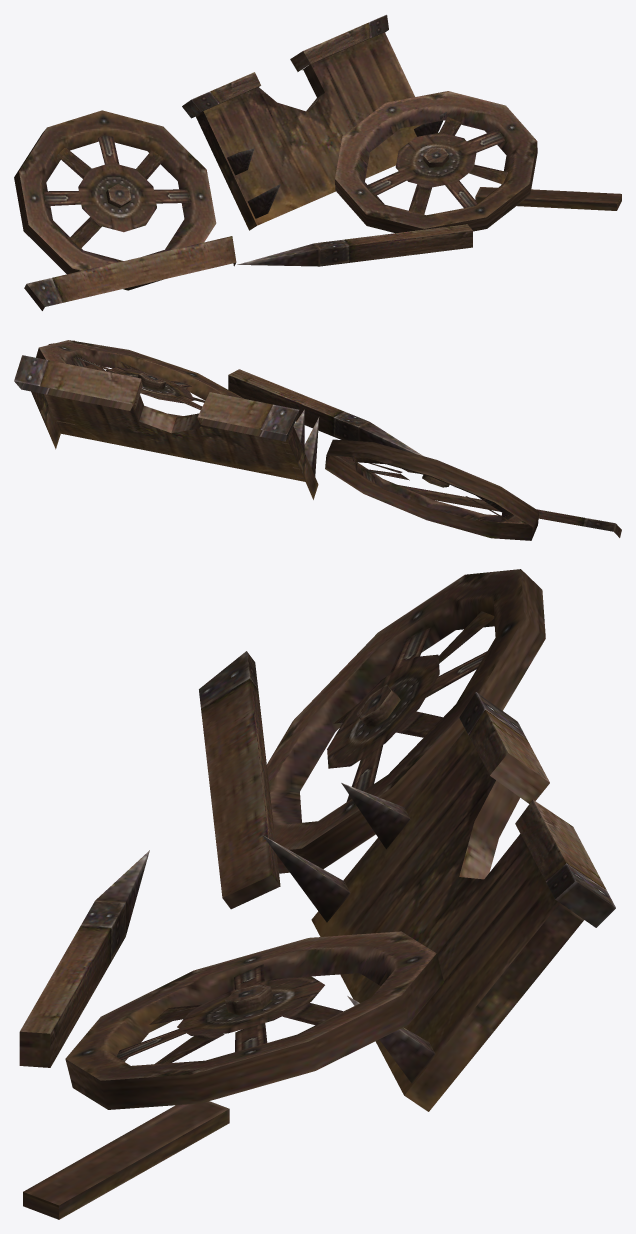
The model's file is yw_yanmenguan_checanhai01.FBX.
The picture shows the model from 3 angles, top to bottom: view 1: azimuth 30°, elevation 25°; view 2: azimuth 150°, elevation 25°; view 3: azimuth 270°, elevation 25°; orthographic projection. The views are drawn at different scales.
Parts seen in each view (by area): view 1: yw_yanmenguan_checanhai01; view 2: yw_yanmenguan_checanhai01; view 3: yw_yanmenguan_checanhai01.
Boxes of the visible parts, x1,y1,x2,y2 form: yw_yanmenguan_checanhai01: [14, 14, 621, 310]; yw_yanmenguan_checanhai01: [14, 340, 621, 540]; yw_yanmenguan_checanhai01: [19, 569, 615, 1219].
Bounding box in the file's own units: 293 × 69.79 × 138.
